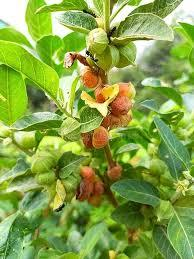healthy_leaf: (14, 11, 178, 223)
